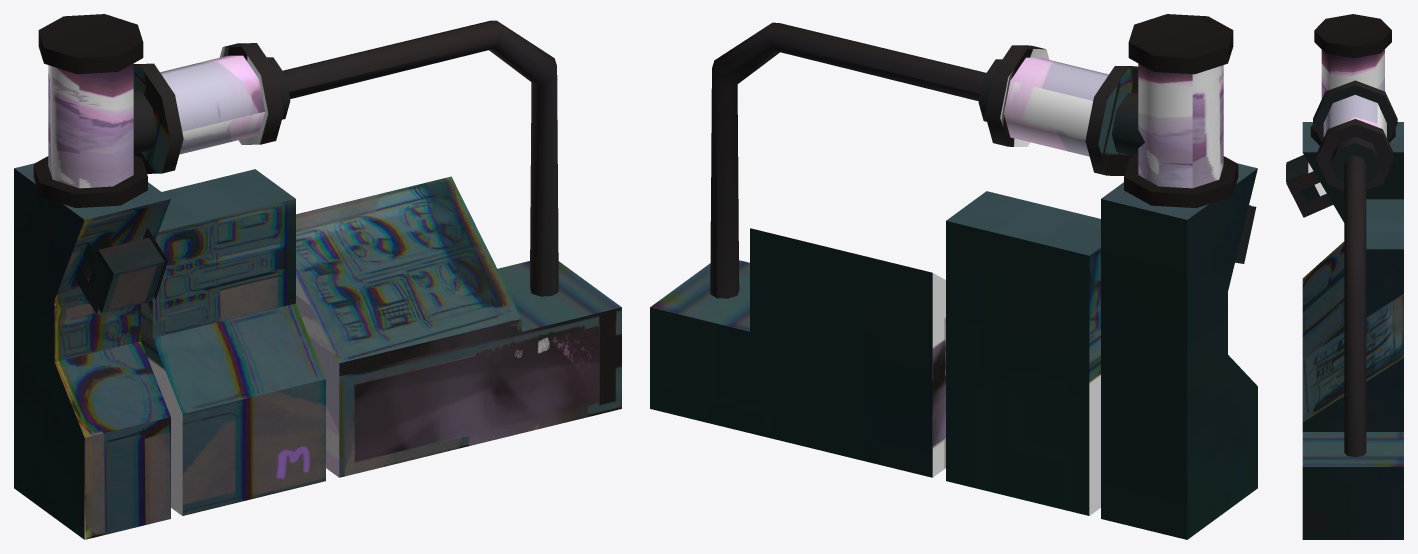
File: mothmania-environment-prop1.fbx
3 renders of one model, left to right at view 1: azimuth 30°, elevation 25°; view 2: azimuth 150°, elevation 25°; view 3: azimuth 270°, elevation 25°, orthographic. The views are drawn at different scales.
Parts seen in each view (by area): view 1: machine1; view 2: machine1; view 3: machine1.
Boxes of the visible parts, x1,y1,x2,y2 form: machine1: [14, 14, 621, 539]; machine1: [650, 14, 1257, 539]; machine1: [1286, 14, 1403, 539].
Size of the model in its own units: 342 by 279 by 88.71.
